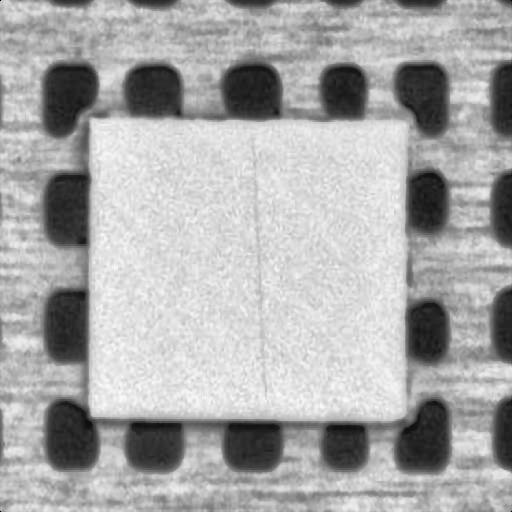DIE_CRACK: (333, 103, 350, 298)
